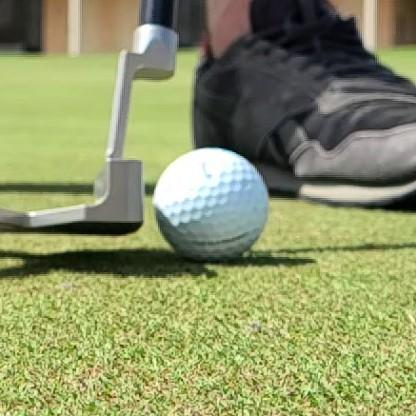golfball: (153, 149, 268, 261)
